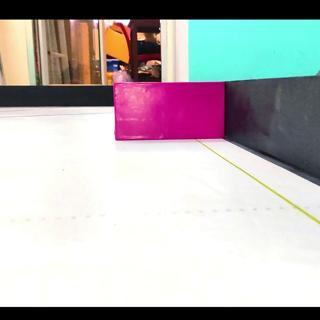xparking: (113, 84, 220, 141)
